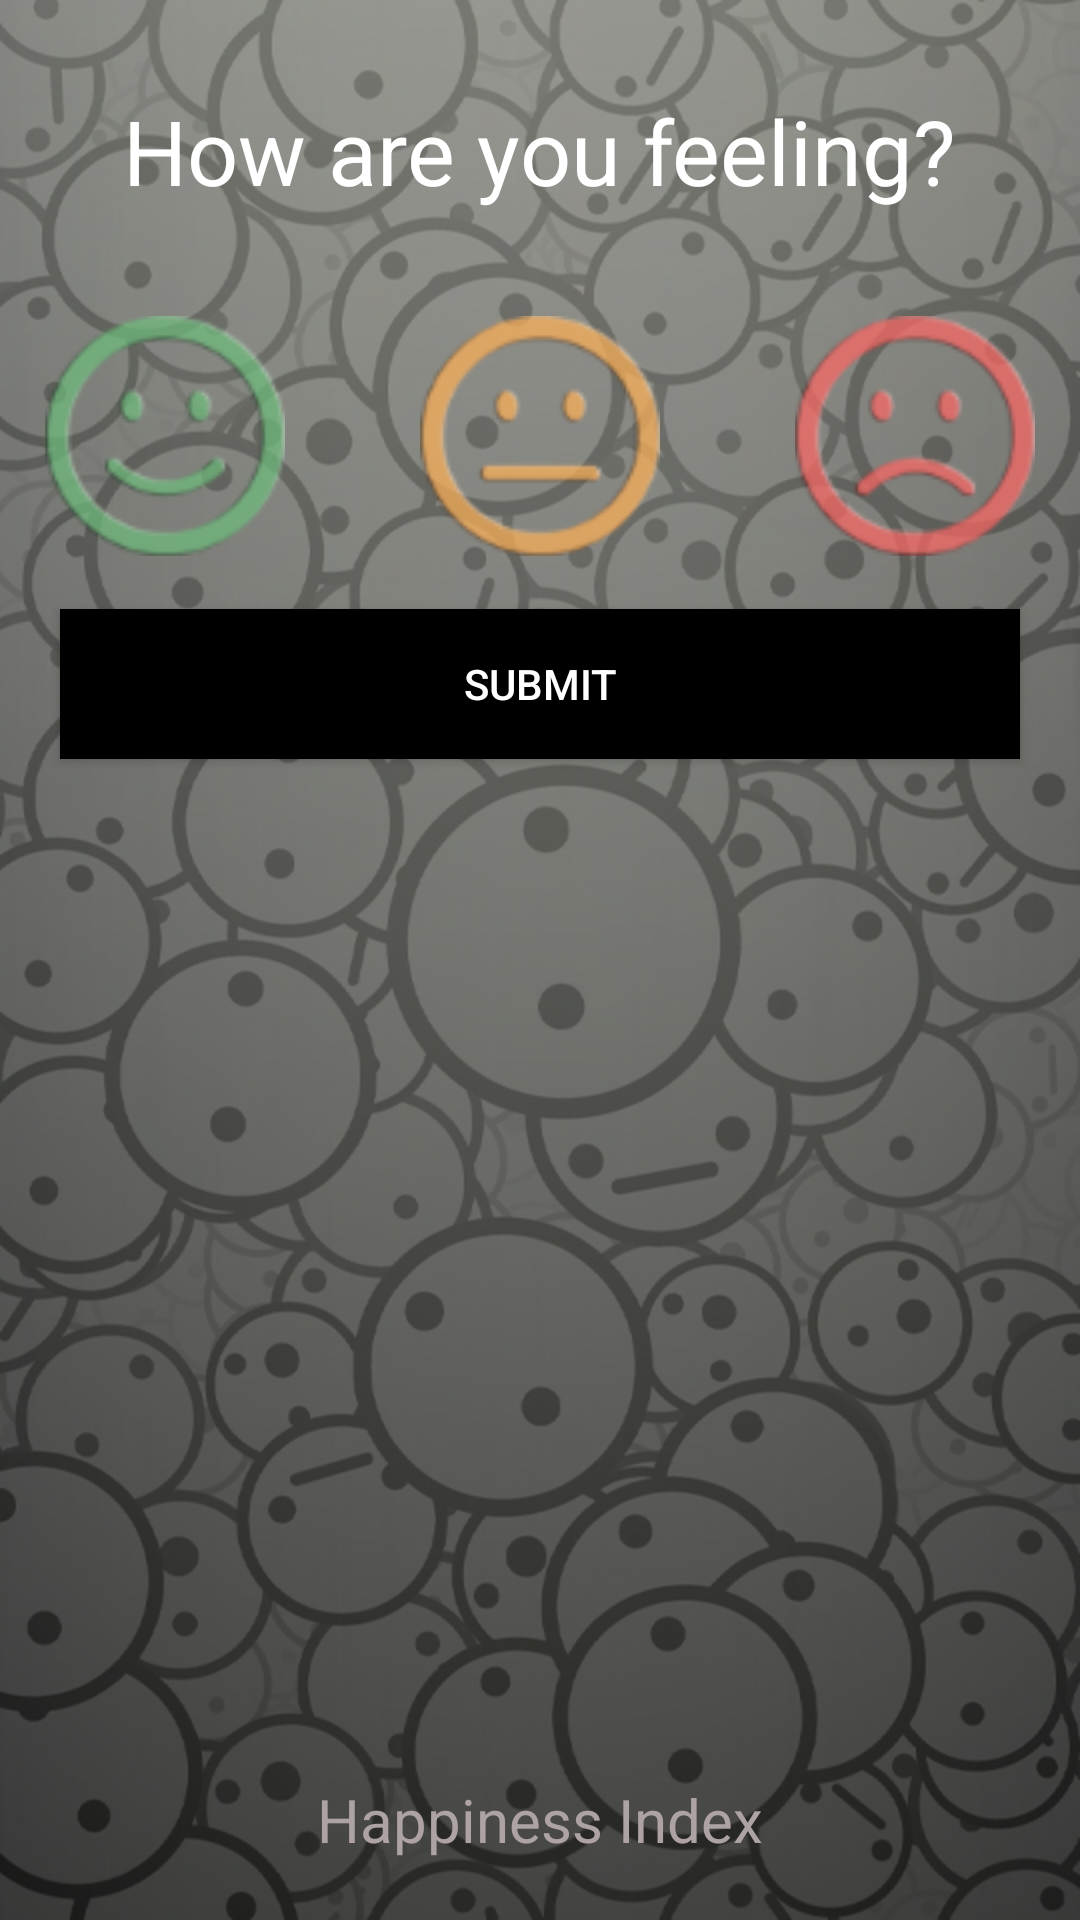

Icon click points for this 1080px×1920px phone screenshot, format [x,y]:
happy: [165,436]
neutral: [540,458]
sad: [915,436]
